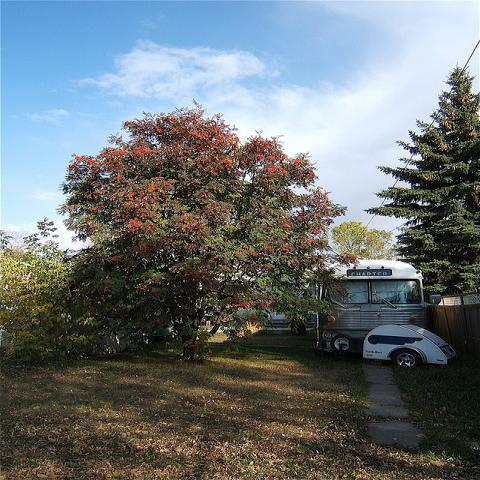bus: (320, 259, 436, 350)
car: (362, 323, 457, 369)
